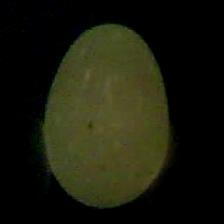infertile: (43, 22, 170, 210)
